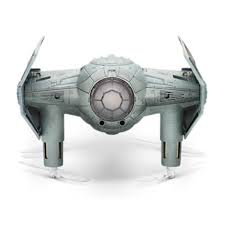Drone: (10, 22, 211, 188)
